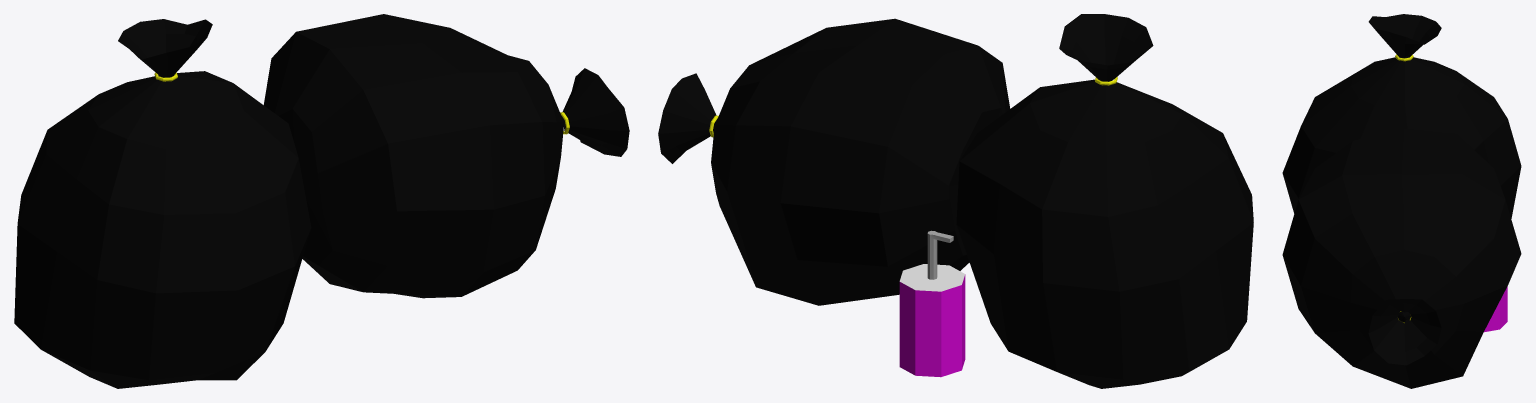
The model's file is Basura.fbx.
The picture shows the model from 3 angles, left to right: view 1: azimuth 30°, elevation 25°; view 2: azimuth 150°, elevation 25°; view 3: azimuth 270°, elevation 25°; orthographic projection. The views are drawn at different scales.
Visible parts, largest first — view 1: BolsaBasuras; view 2: BolsaBasuras, Vaso, Popote; view 3: BolsaBasuras, Vaso.
Boxes of the visible parts, x1,y1,x2,y2 form: BolsaBasuras: [14, 14, 629, 388]; BolsaBasuras: [658, 14, 1253, 388]; Vaso: [899, 264, 965, 377]; Popote: [927, 230, 953, 279]; BolsaBasuras: [1282, 14, 1521, 388]; Vaso: [1484, 286, 1507, 332].
Bounding box in the file's own units: 25.6 × 14.34 × 12.1.
